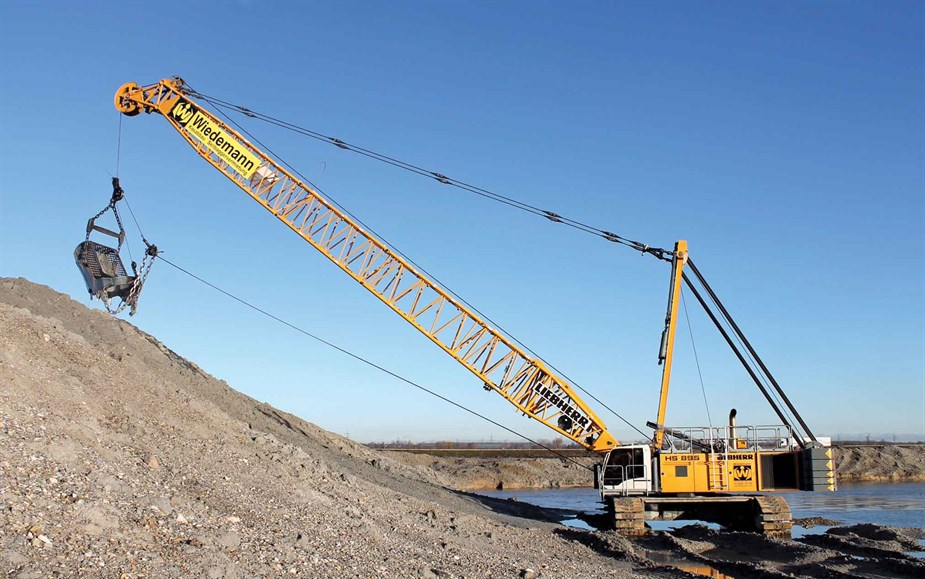crane: (84, 74, 825, 549)
